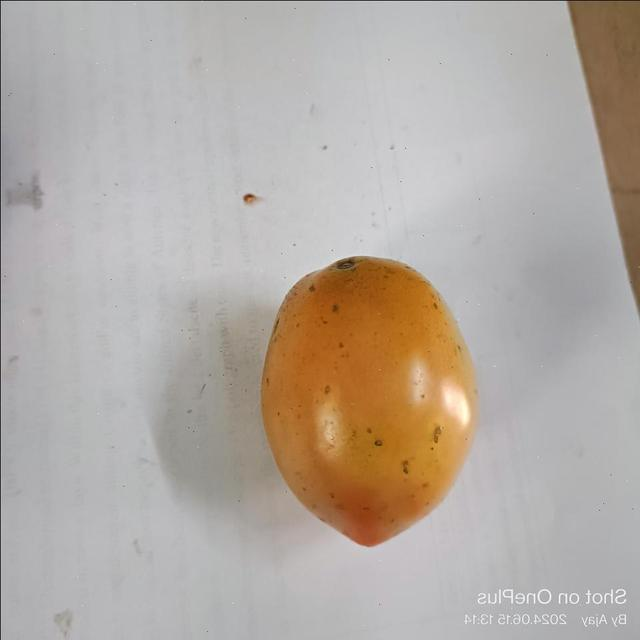Bacterial Spot Fruit: (221, 169, 239, 182)
